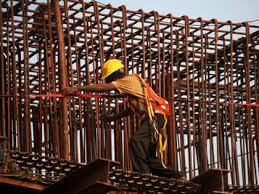arm: (66, 69, 115, 119)
helmet: (101, 55, 127, 78)
human: (96, 51, 167, 176)
leg: (128, 119, 159, 176)
noglove: (63, 82, 81, 98)
vest: (137, 74, 174, 118)
